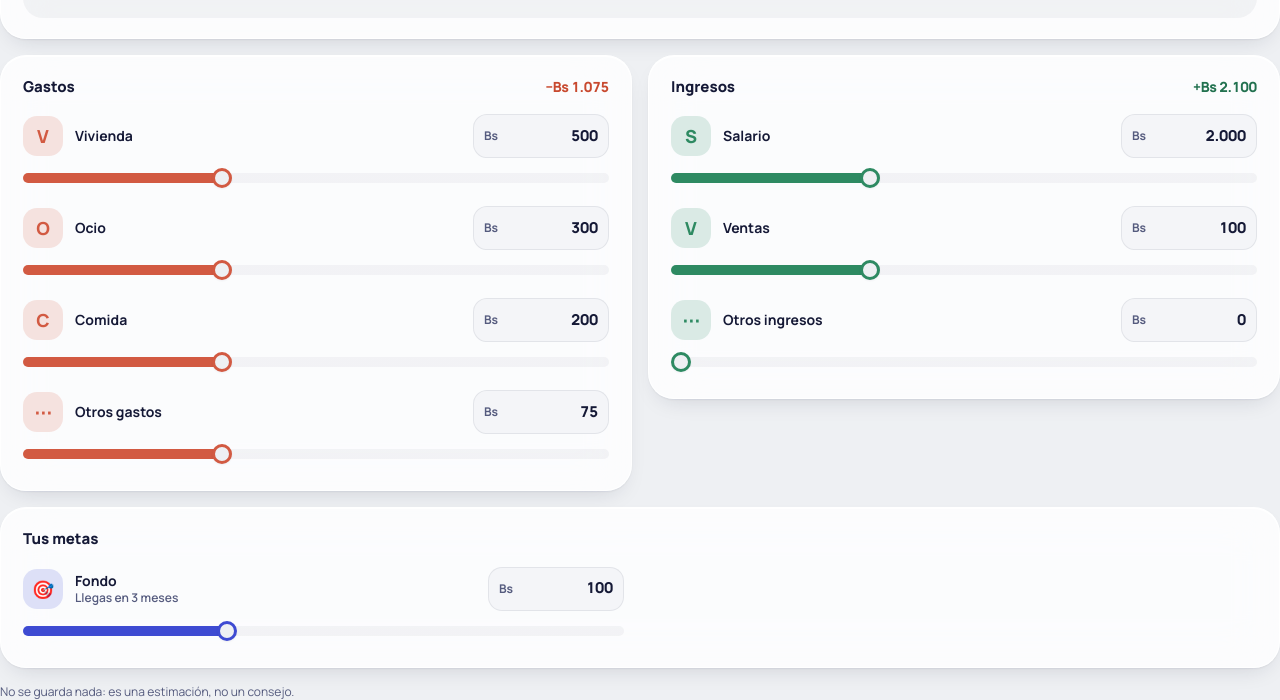
What If? simulator › sliders go from 0 to ×3, never below zero
(page scrolled)
Expected: the text "Llegas en 3 meses" is shown, [75,589,178,606]
Set the slider labelled "Fondo" to "0": {"x": 31, "y": 630} [23,614,624,646]
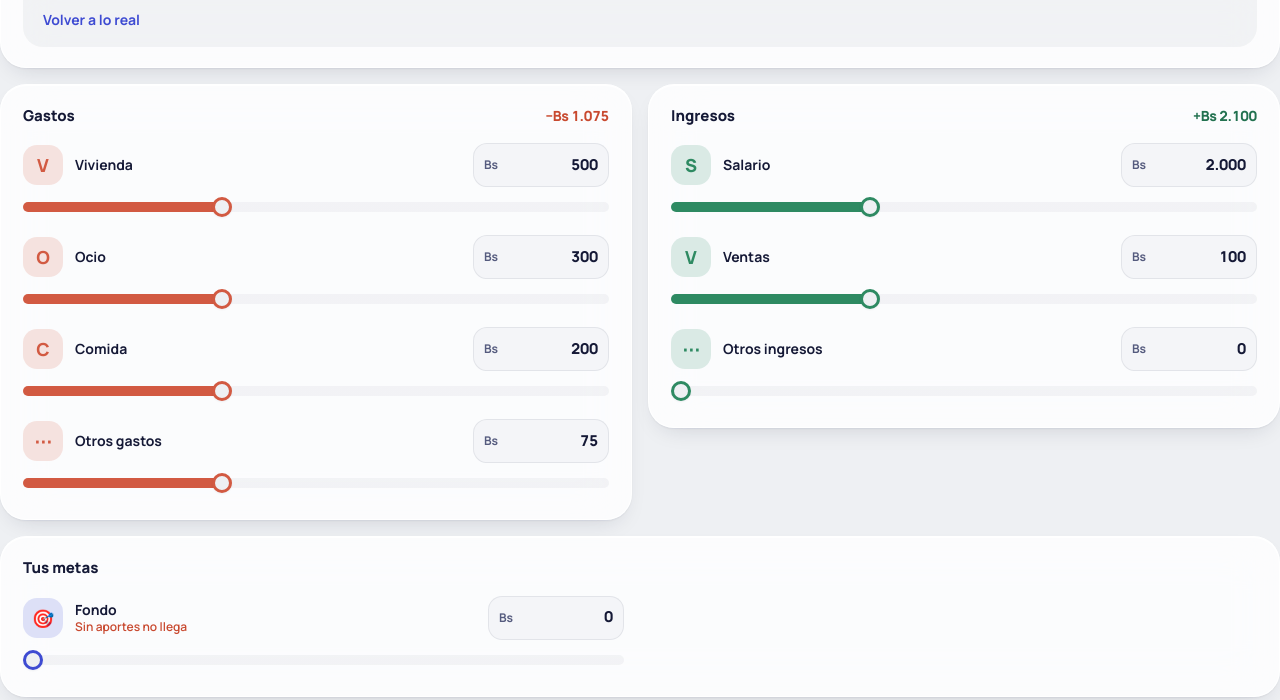
Now the text "Sin aportes no llega" is shown, box [75,618,187,635]
Set the slider labelled "Fondo" to "300": {"x": 616, "y": 660} [23,644,624,676]
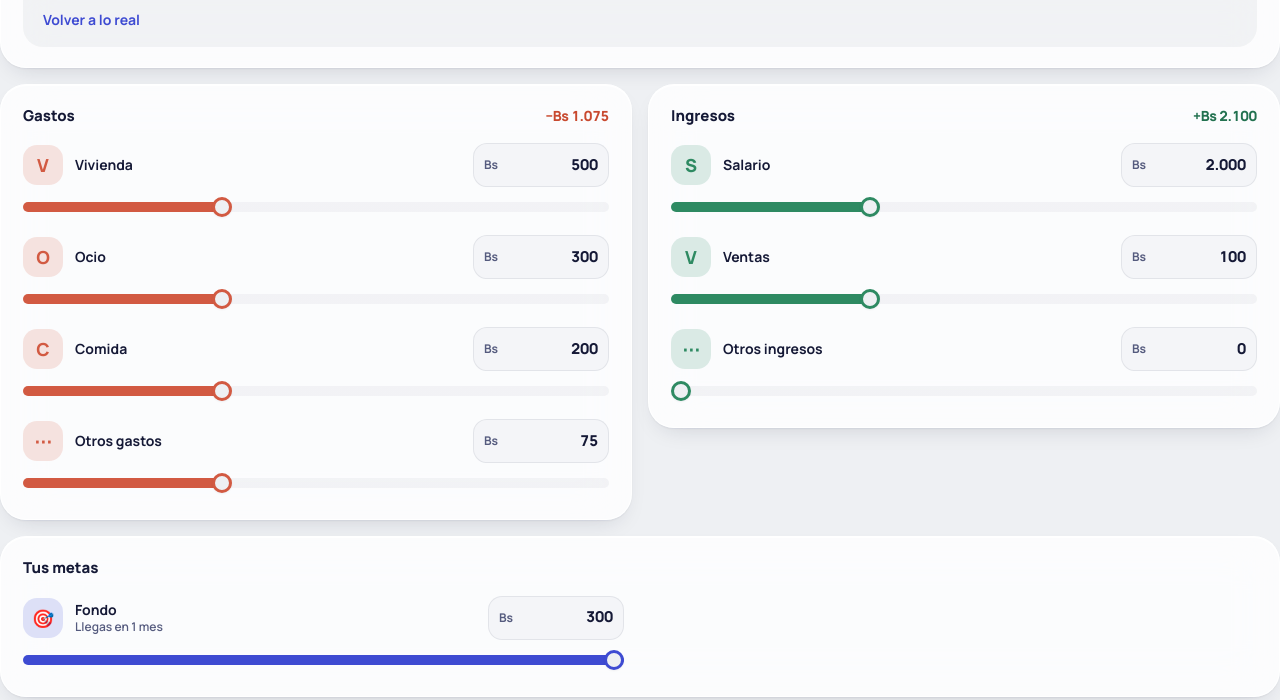
Now the text "Llegas en 1 mes" is shown, box [75,618,163,635]
